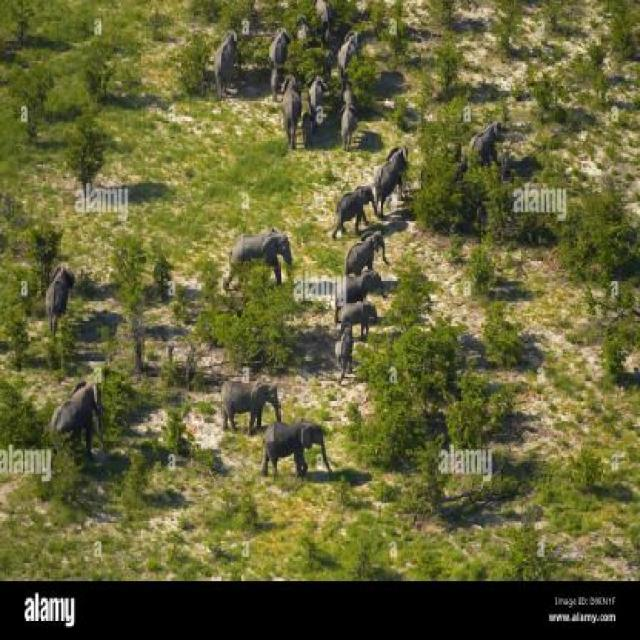elephant: (259, 414, 347, 488), (45, 372, 113, 461), (224, 228, 299, 295), (34, 242, 83, 332), (208, 371, 292, 423), (274, 72, 312, 153), (375, 141, 428, 199), (327, 173, 381, 222), (318, 291, 380, 332), (338, 222, 402, 261), (306, 269, 394, 296), (322, 322, 356, 388), (210, 18, 239, 91), (332, 22, 378, 68), (258, 26, 297, 80), (465, 116, 510, 162), (332, 82, 362, 147), (306, 63, 322, 111), (292, 8, 312, 46)
